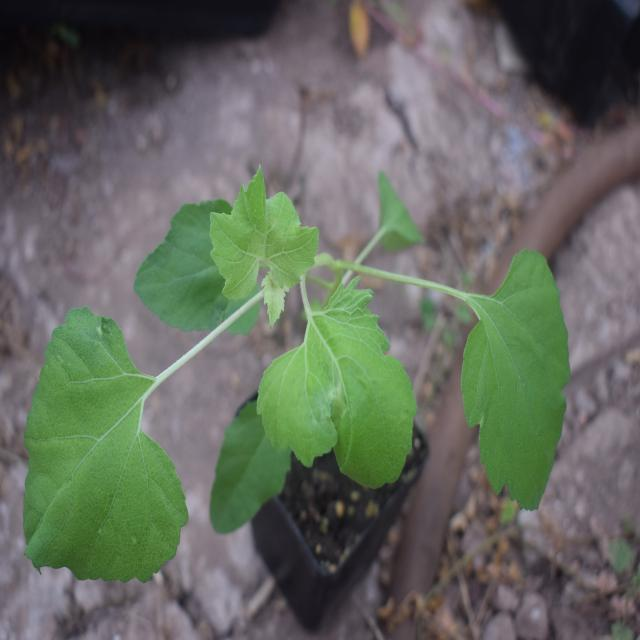cocklebur: (10, 154, 561, 557)
